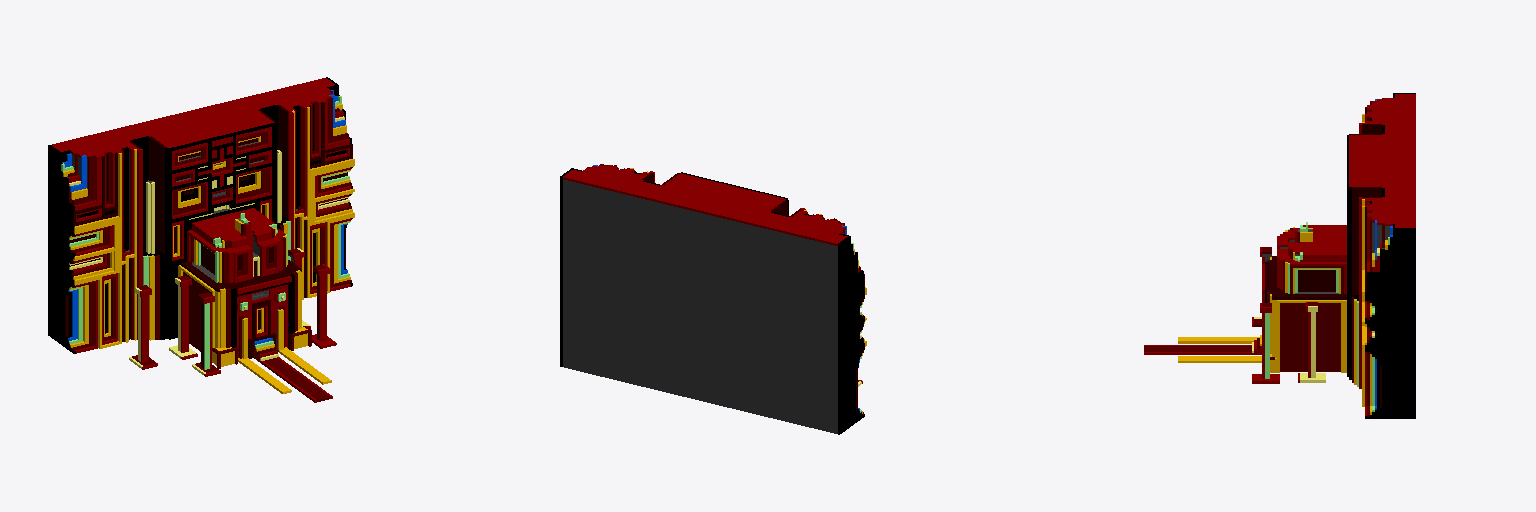
The picture shows the model from 3 angles: view 1: azimuth 30°, elevation 25°; view 2: azimuth 150°, elevation 25°; view 3: azimuth 270°, elevation 25°; orthographic projection.
Bounding box in the file's own units: 126 × 82 × 106.
Materials: 1 (1 with a texture image).